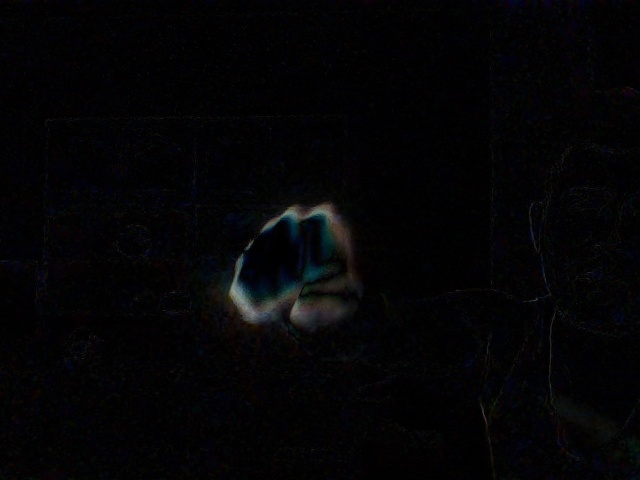hand_fi: (224, 201, 358, 334)
